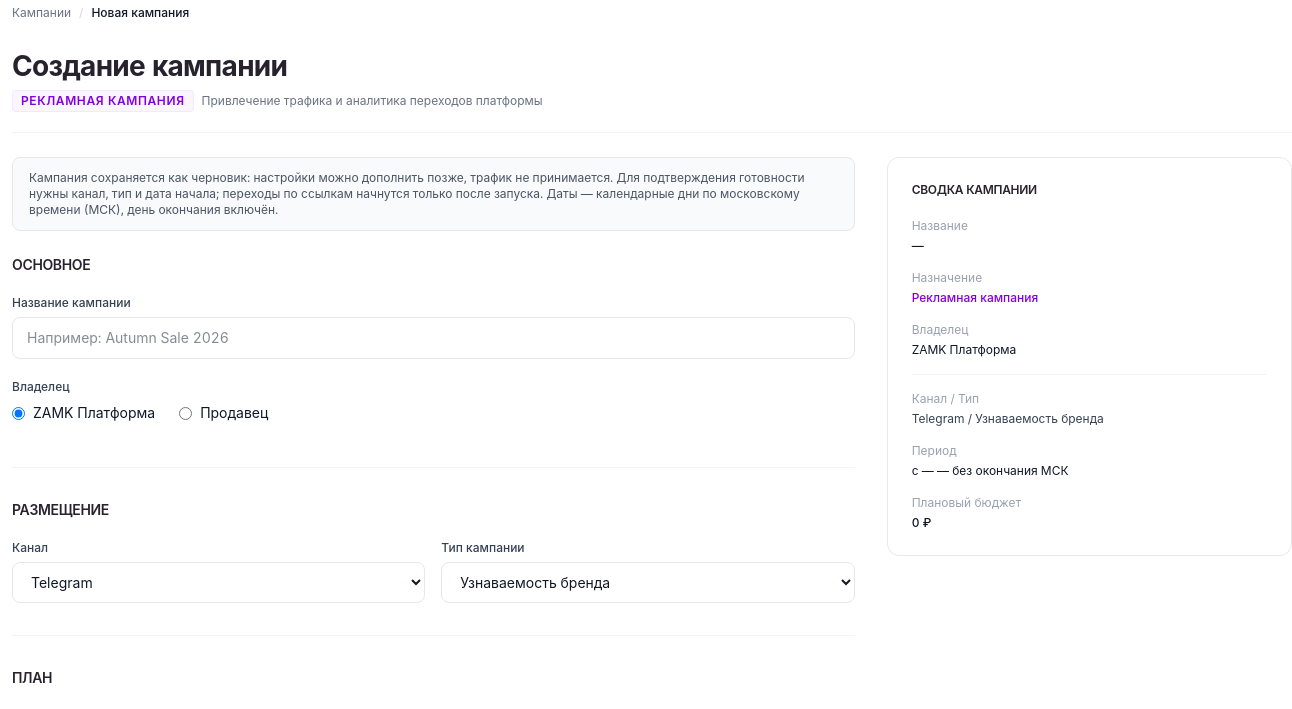
Test: AdminMarketingCampaignCreate › saves a draft and shows API errors without navigating
Expected: the text with test id "campaign-create-status-note" shows "черновик", [29,170,805,217]
Type "Will fail" into the field with test id "campaign-title-input" at (433, 338), box [12,317,855,359]
(page scrolled)
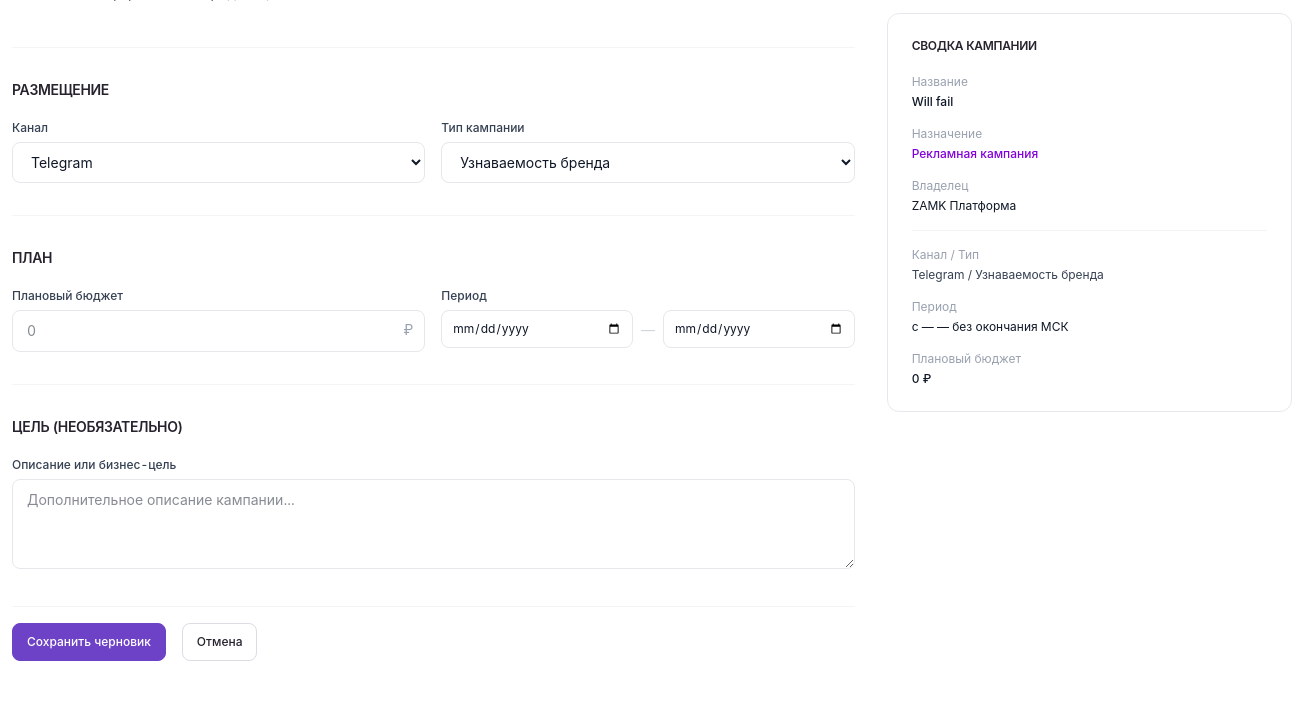
Click the button with test id "submit-create-campaign" at (89, 642), box [12,623,166,661]
(page scrolled)
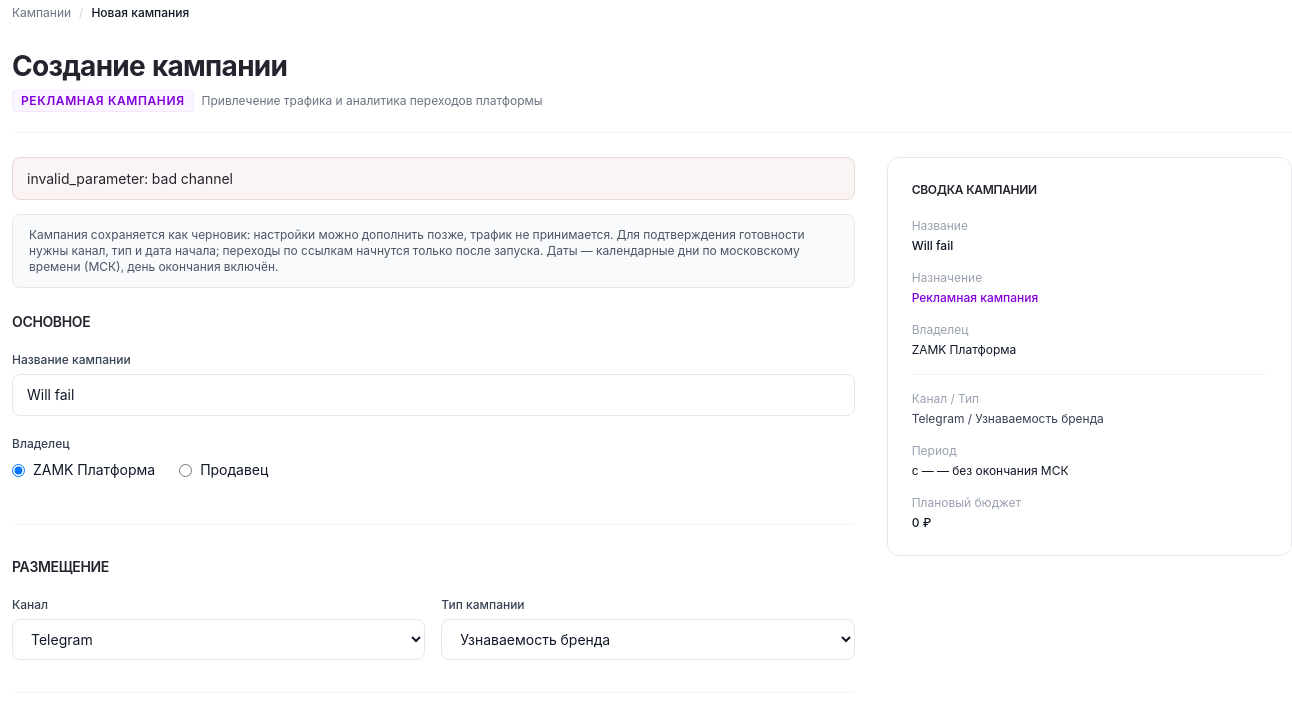
Result: the text "invalid_parameter: bad channel" is shown at [27,168,233,189]
